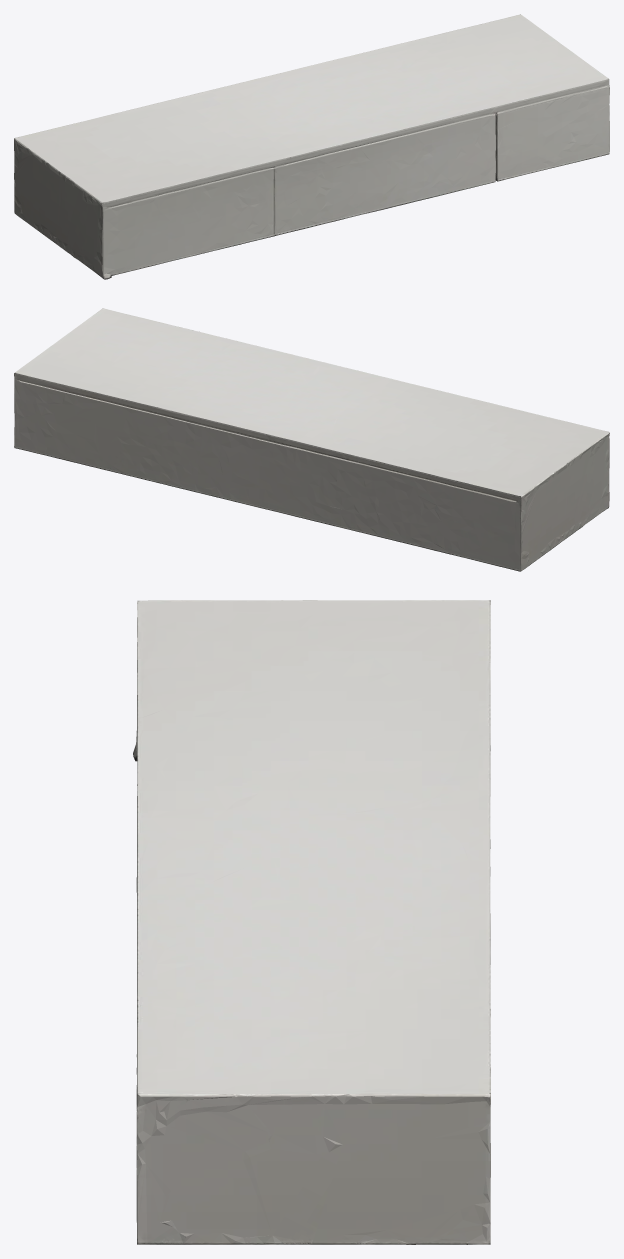
The model's file is ast_279a3b8e3809.glb.
The picture shows the model from 3 angles, top to bottom: view 1: azimuth 30°, elevation 25°; view 2: azimuth 150°, elevation 25°; view 3: azimuth 270°, elevation 25°; orthographic projection. The views are drawn at different scales.
Visible parts, largest first — view 1: geometry_0; view 2: geometry_0; view 3: geometry_0.
Part boxes in pixels (bbox=[...]): geometry_0: bbox=[14, 14, 609, 279]; geometry_0: bbox=[14, 308, 609, 571]; geometry_0: bbox=[133, 600, 490, 1244].
Size of the model in its own units: 1 by 0.1458 by 0.3058.
1 material, 1 textured.
